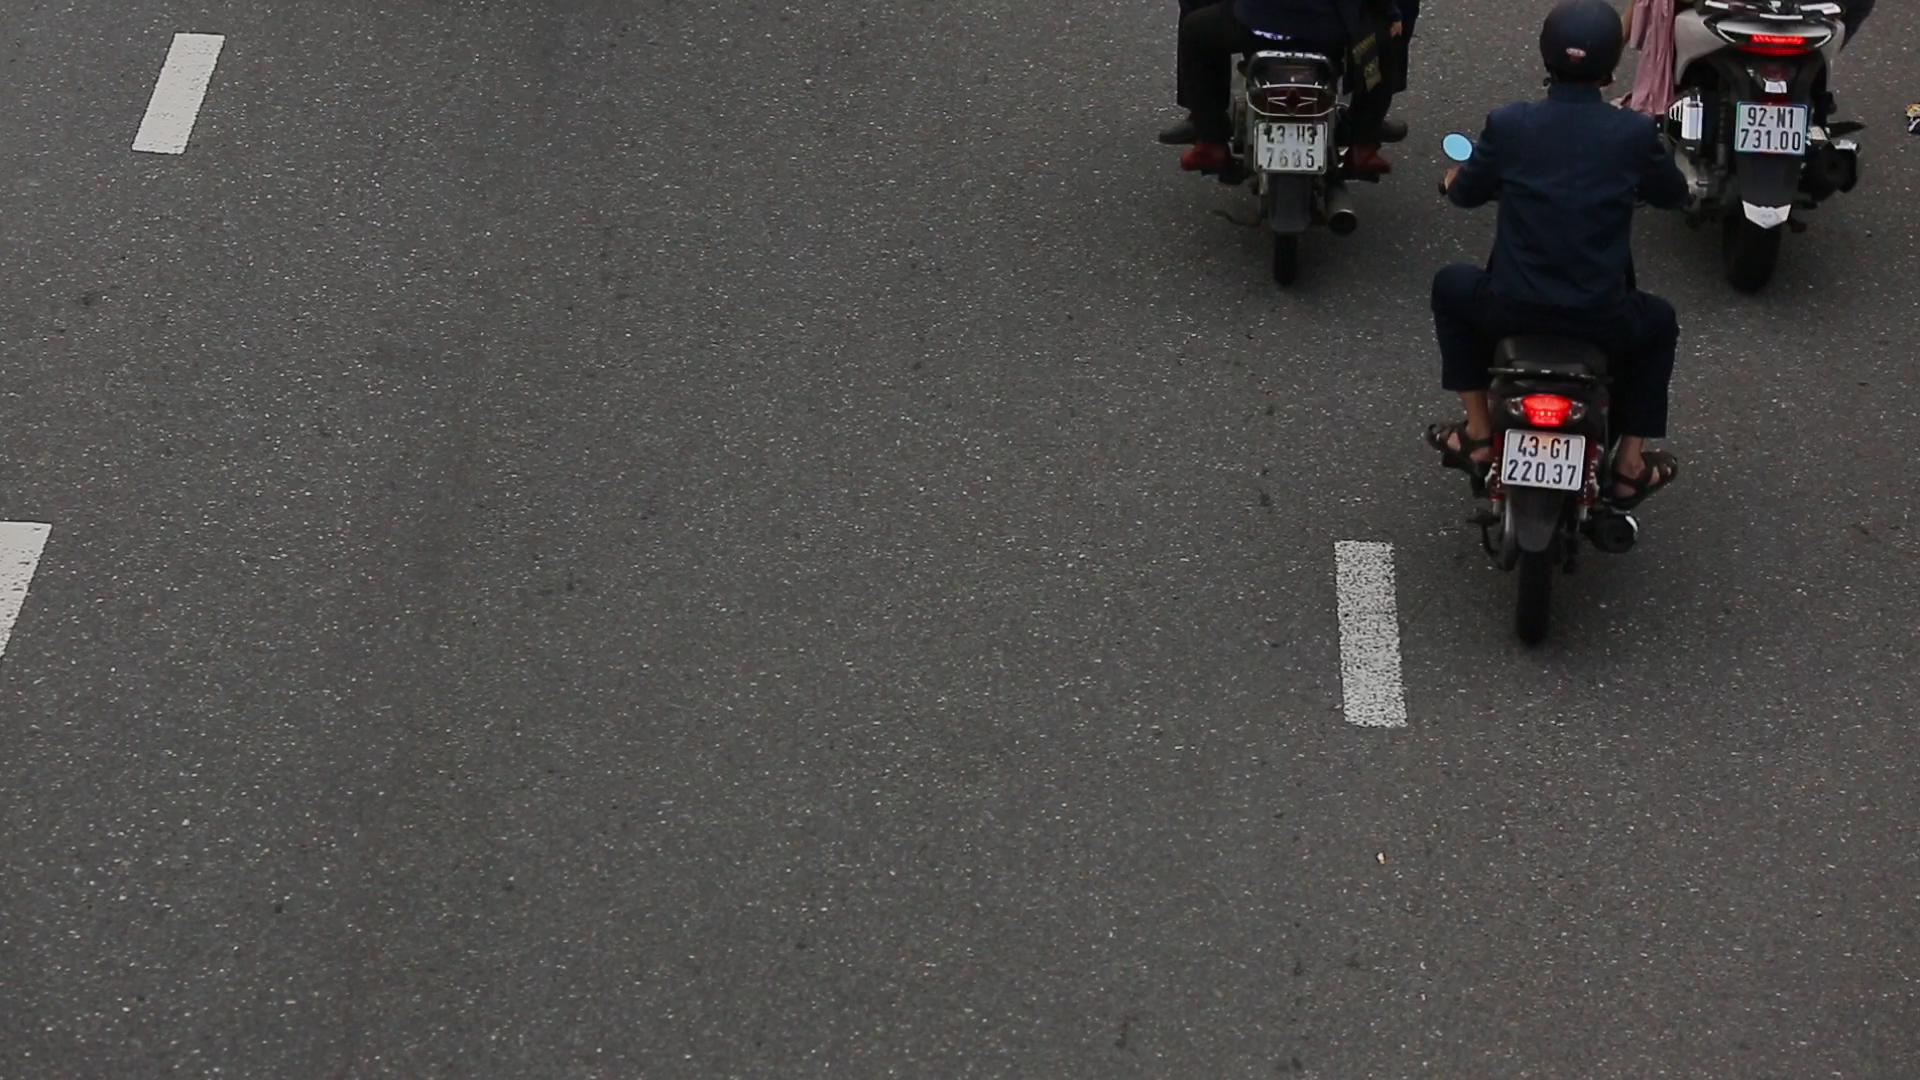motobike: (1444, 0, 1688, 651)
